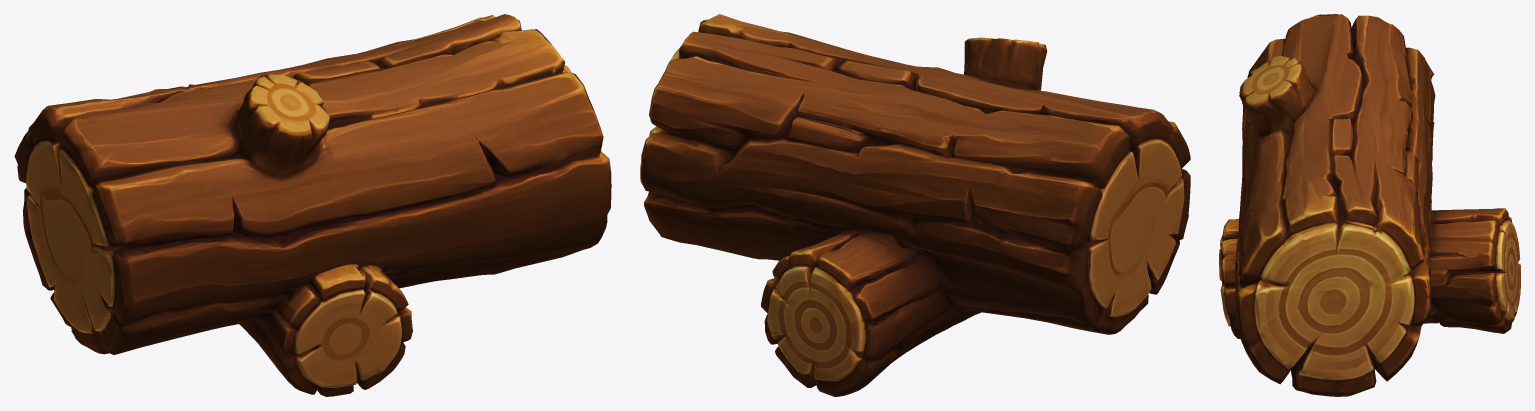
File: logs.glb
The picture shows the model from 3 angles, left to right: view 1: azimuth 30°, elevation 25°; view 2: azimuth 150°, elevation 25°; view 3: azimuth 270°, elevation 25°; orthographic projection. The views are drawn at different scales.
Parts seen in each view (by area): view 1: tripo_node_d6bcd786-a592-438e-9537-d2f19d077dce; view 2: tripo_node_d6bcd786-a592-438e-9537-d2f19d077dce; view 3: tripo_node_d6bcd786-a592-438e-9537-d2f19d077dce.
Boxes of the visible parts, box(x1,y1,x2,y2) form: tripo_node_d6bcd786-a592-438e-9537-d2f19d077dce: box(14, 14, 611, 396); tripo_node_d6bcd786-a592-438e-9537-d2f19d077dce: box(640, 14, 1190, 396); tripo_node_d6bcd786-a592-438e-9537-d2f19d077dce: box(1219, 14, 1520, 396).
Size of the model in its own units: 1 by 0.5934 by 0.642.
1 material, 1 textured.
